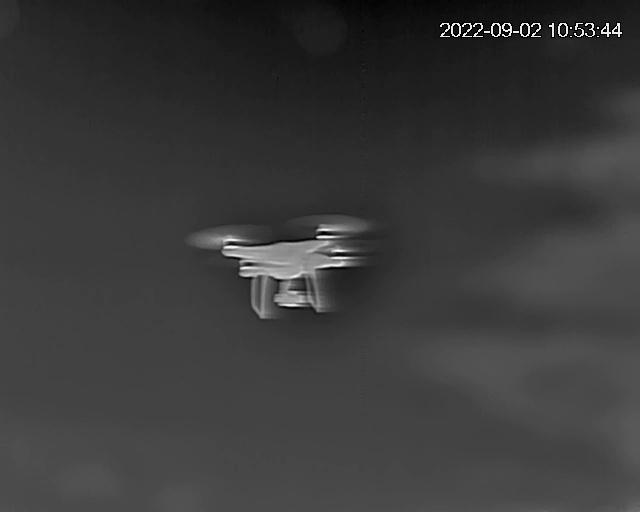DJI-Phantom: (186, 217, 389, 321)
